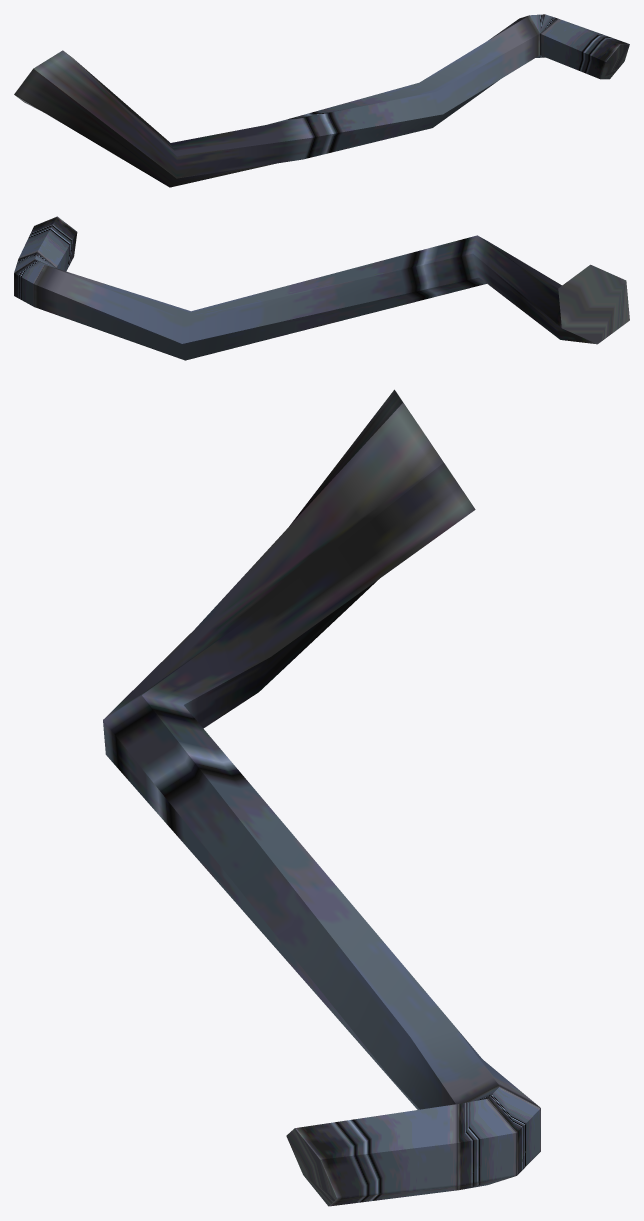
The model's file is pipeBroken1.fbx.
3 renders of one model, top to bottom at view 1: azimuth 30°, elevation 25°; view 2: azimuth 150°, elevation 25°; view 3: azimuth 270°, elevation 25°, orthographic. The views are drawn at different scales.
Visible parts, largest first — view 1: pipeBroken1; view 2: pipeBroken1; view 3: pipeBroken1.
Boxes of the visible parts, x1=… form: pipeBroken1: x1=14, y1=14, x2=629, y2=187; pipeBroken1: x1=14, y1=216, x2=629, y2=360; pipeBroken1: x1=103, y1=389, x2=540, y2=1206.
Size of the model in its own units: 3.76 by 1.05 by 1.21.
